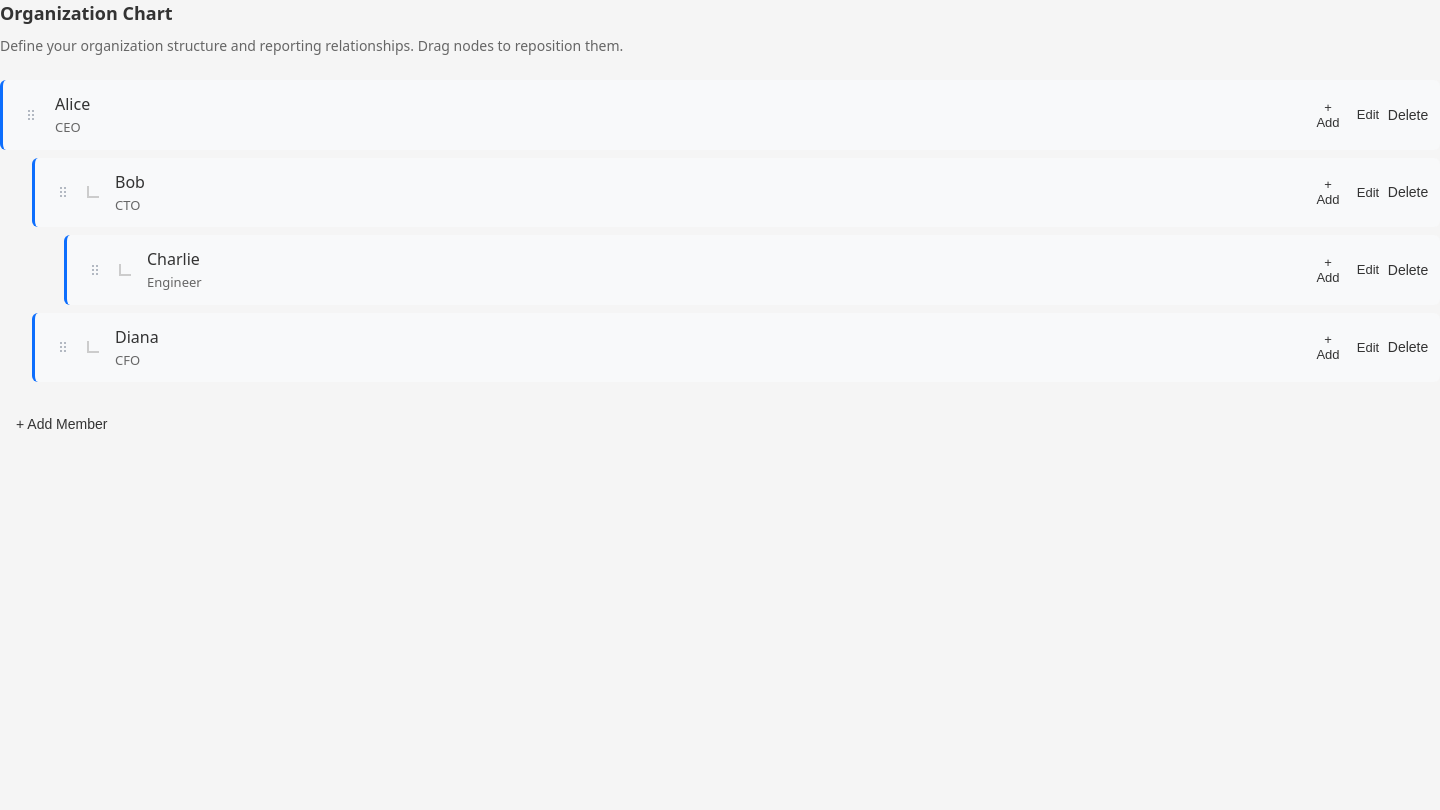
OrgChartEditor › Deleting nodes › shows confirmation modal when Delete button is clicked
The width and height of the screenshot is (1440, 810).
What coordinates should you click on to do the following:
click the button with aria-label "Delete Charlie"
I would click on:
 (1408, 270)
Its box is left=1392, top=254, right=1424, bottom=286.
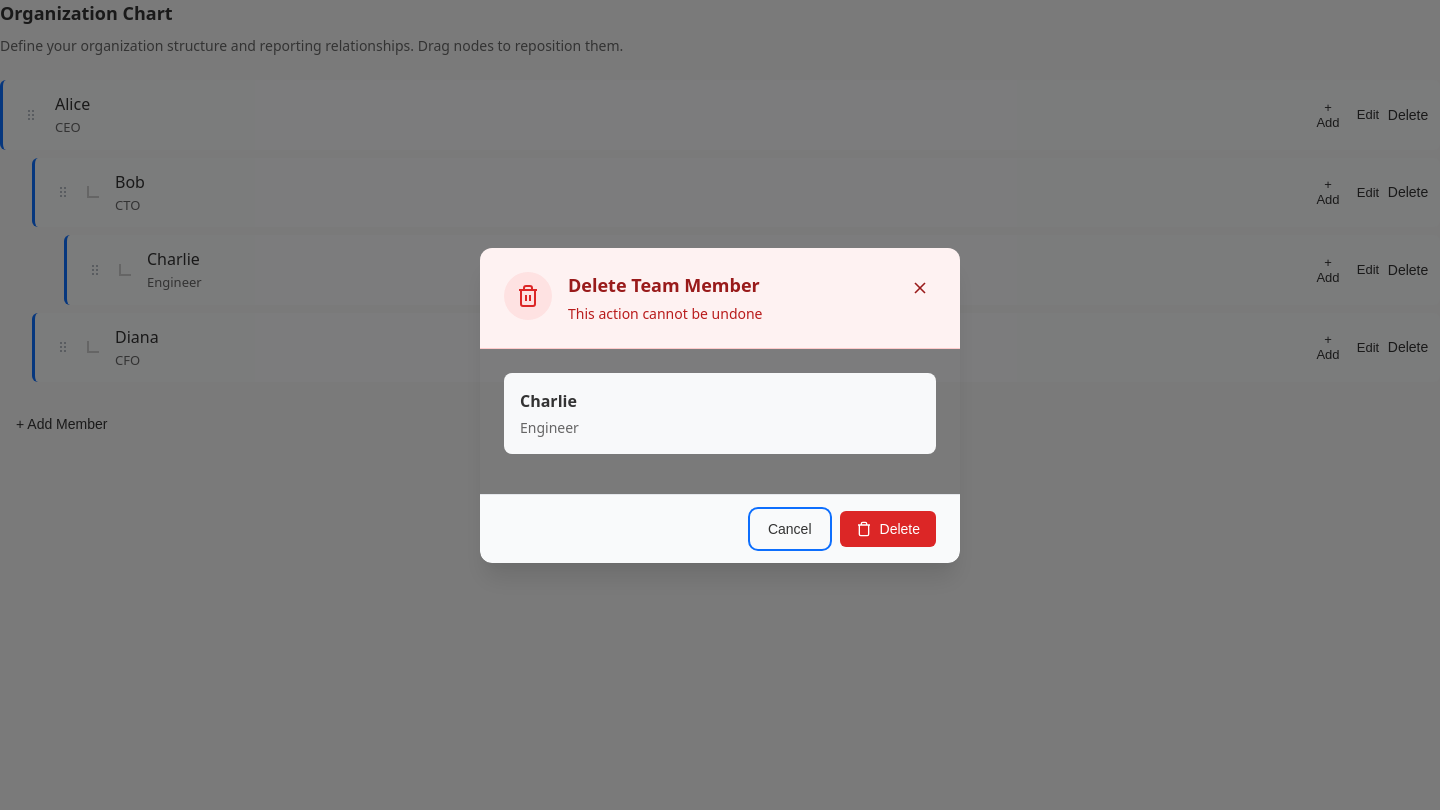
Expected: the text "Charlie" is shown 2 times, left=147, top=247, right=202, bottom=271; left=520, top=390, right=577, bottom=412
Expected: the heading "Delete Team Member" is shown, left=568, top=272, right=760, bottom=296
